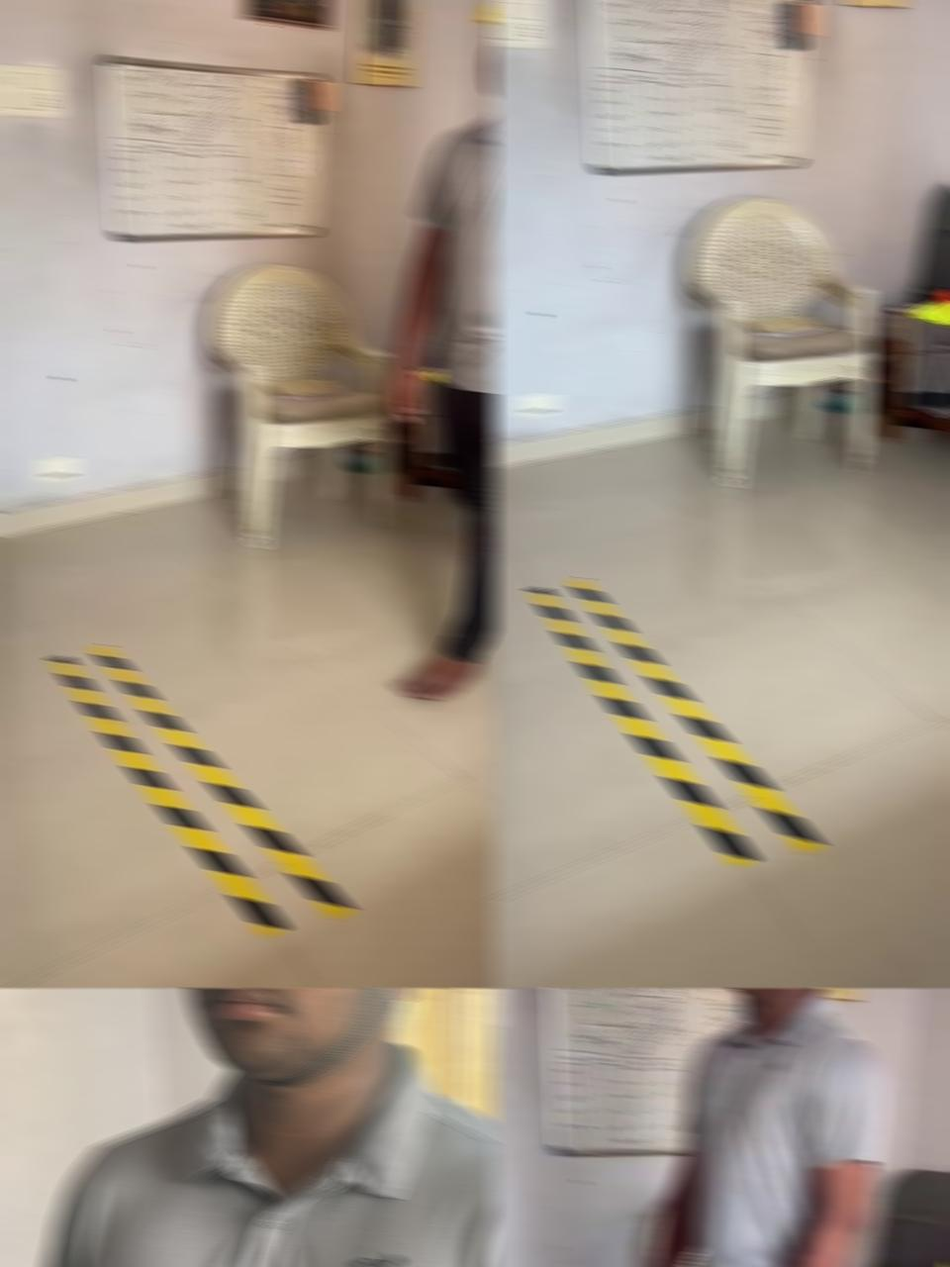BorderLine: (48, 643, 356, 936), (525, 577, 826, 866)
No_Helmet: (723, 988, 850, 997)
No_Vest: (18, 1045, 497, 1267), (671, 991, 886, 1267)
Person: (6, 988, 497, 1267), (386, 0, 497, 700), (628, 988, 885, 1267)
